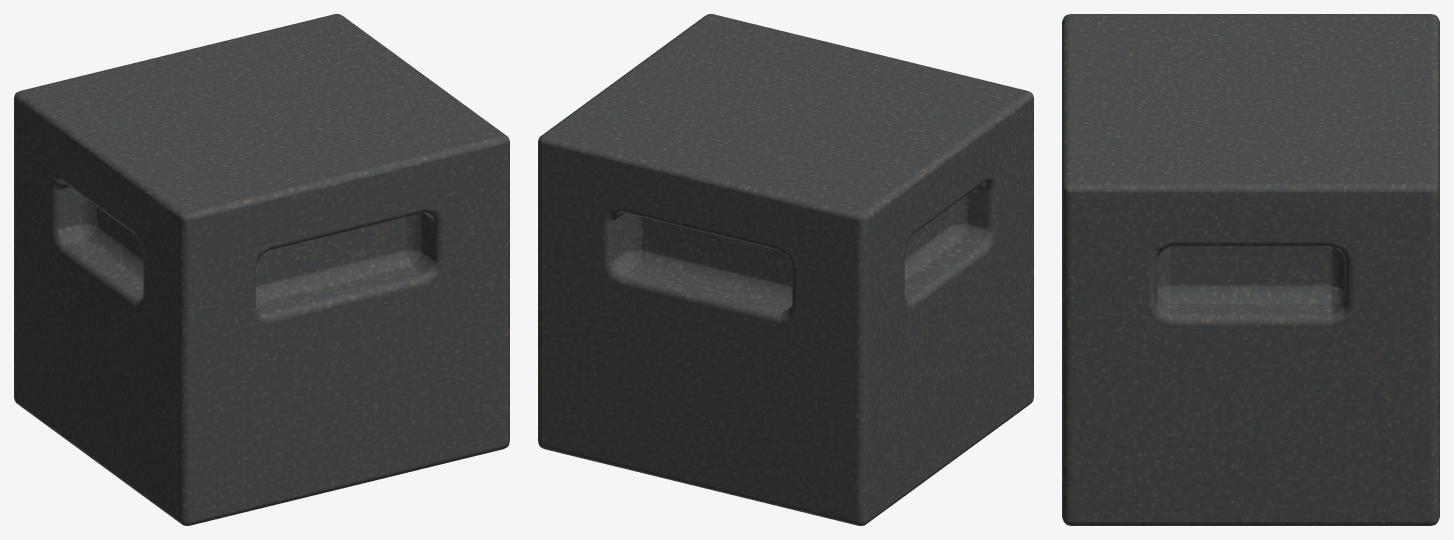
The model's file is 04-calibration-weight.fbx.
3 renders of one model, left to right at view 1: azimuth 30°, elevation 25°; view 2: azimuth 150°, elevation 25°; view 3: azimuth 270°, elevation 25°, orthographic. The views are drawn at different scales.
Parts seen in each view (by area): view 1: cast iron block; view 2: cast iron block; view 3: cast iron block.
Part boxes in pixels (x1,y1,x2,y2): cast iron block: (14, 14, 509, 525); cast iron block: (538, 14, 1033, 525); cast iron block: (1062, 14, 1439, 525).
Size of the model in its own units: 33 by 30 by 30.
Materials: 1 (1 with a texture image).
